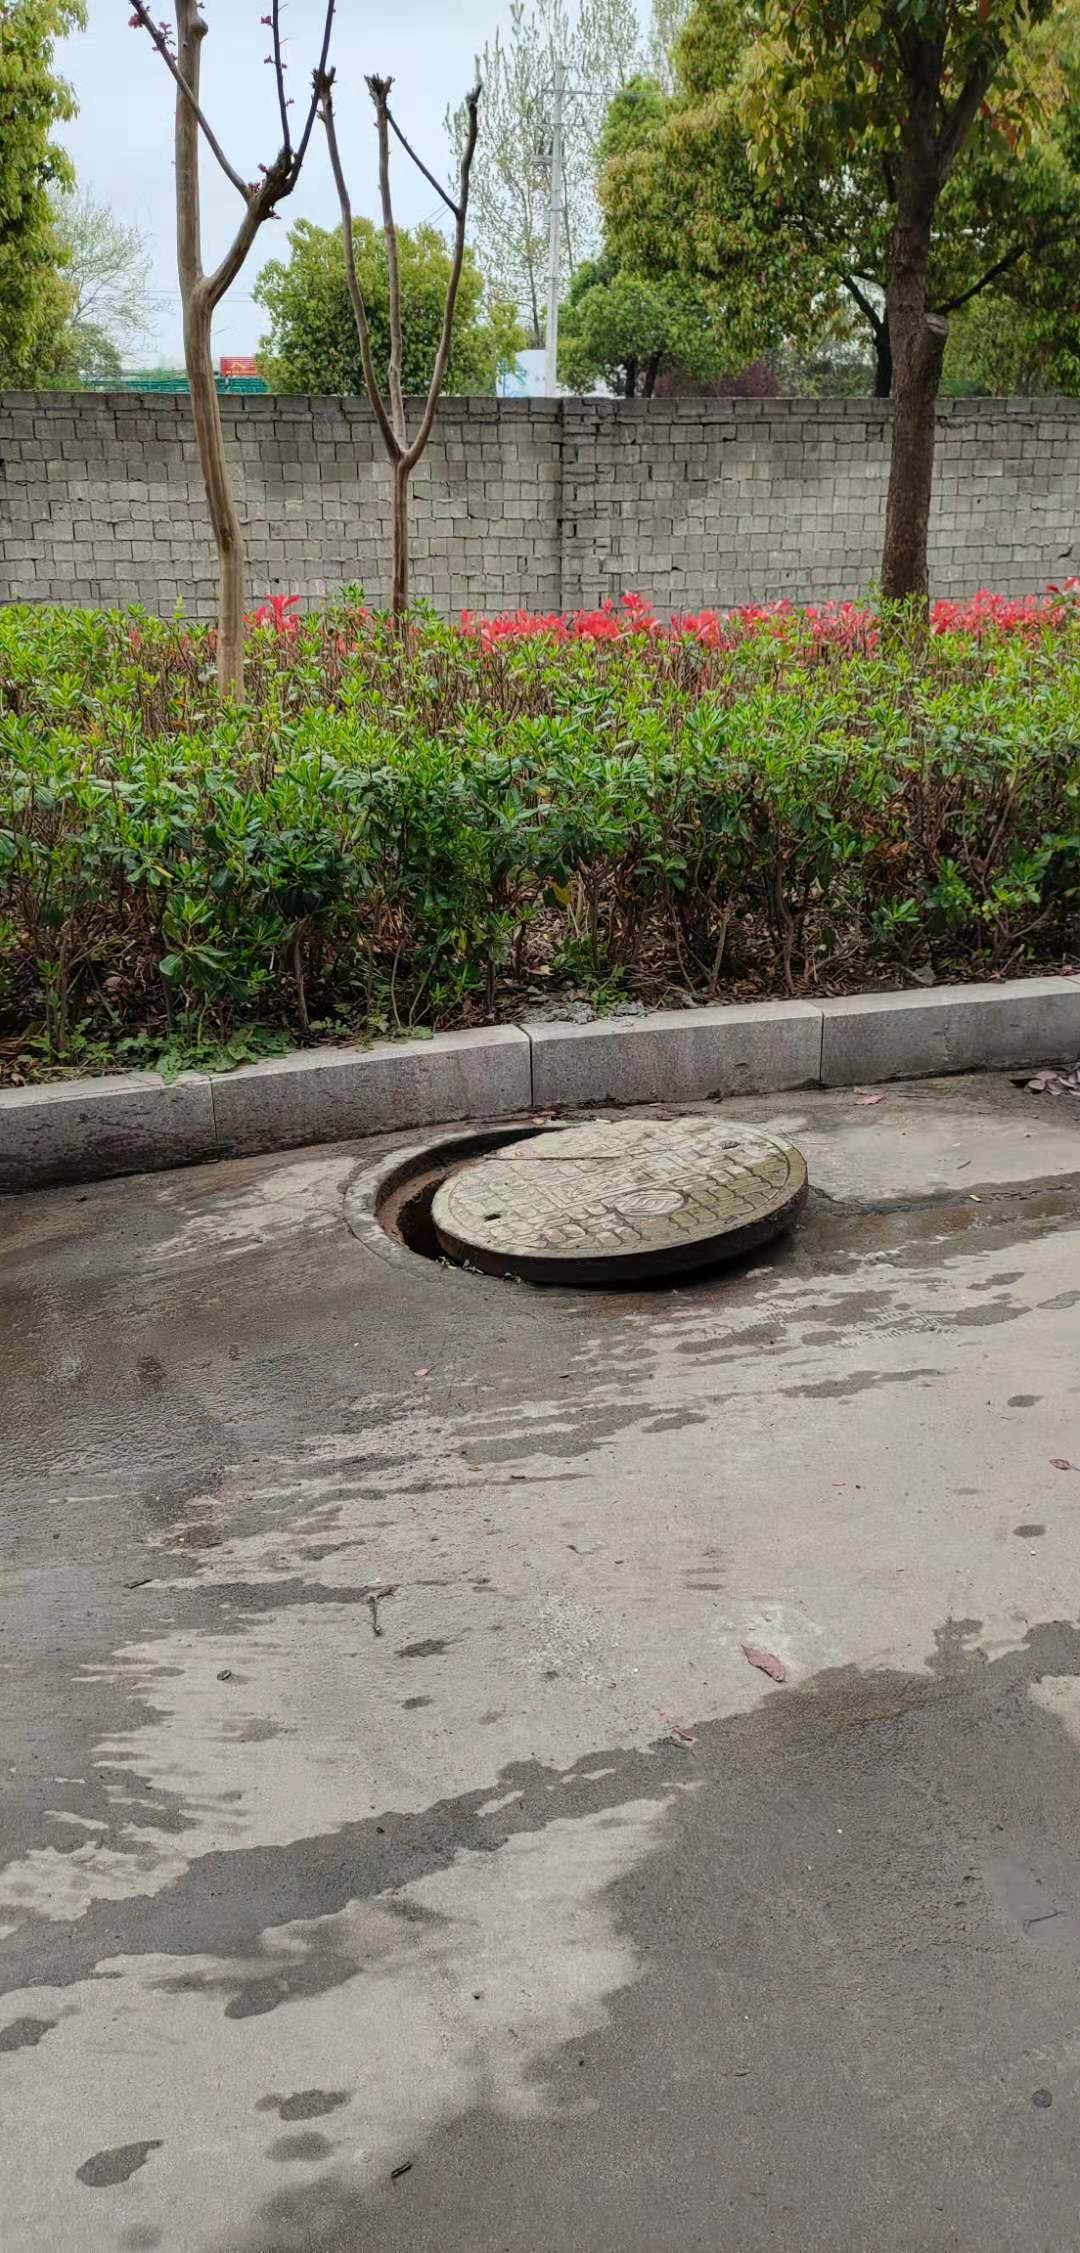uncovered: (340, 1105, 816, 1303)
